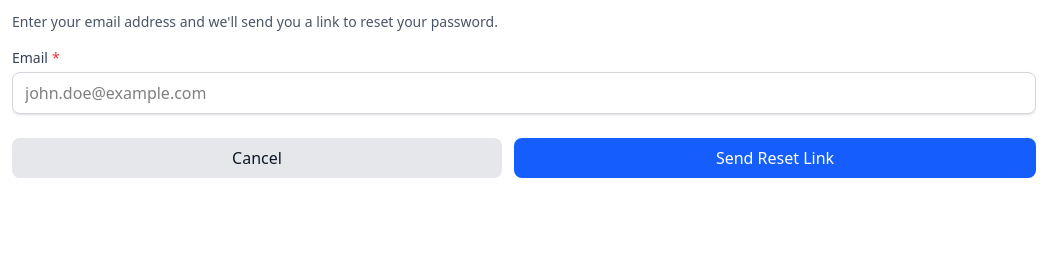
it: ForgotPasswordForm › should show success message with reset link after successful submission
The image size is (1048, 265).
Type "user@example.com" into the field with placeholder "john.doe@example.com" at {"x": 524, "y": 93}, box 12,72 -> 1036,114
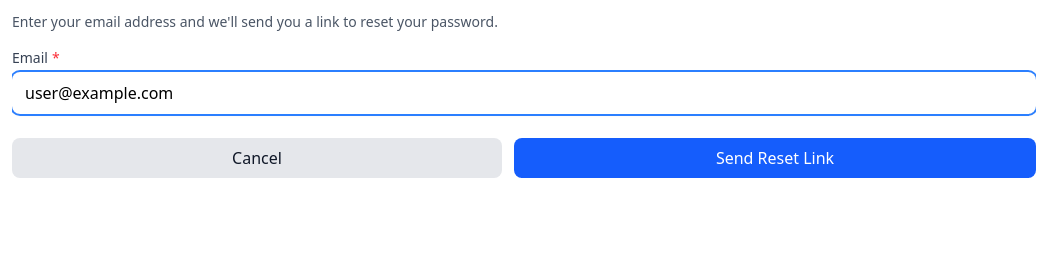
Click the button "Send Reset Link" at {"x": 775, "y": 158}, box 514,138 -> 1036,178
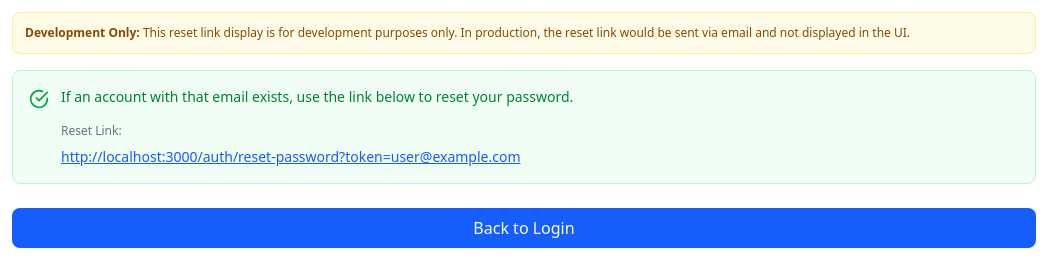
Now the text "If an account with that email exists" is shown, box 61,87 -> 573,106
Now the button "Back to Login" is shown, box 12,208 -> 1036,248
